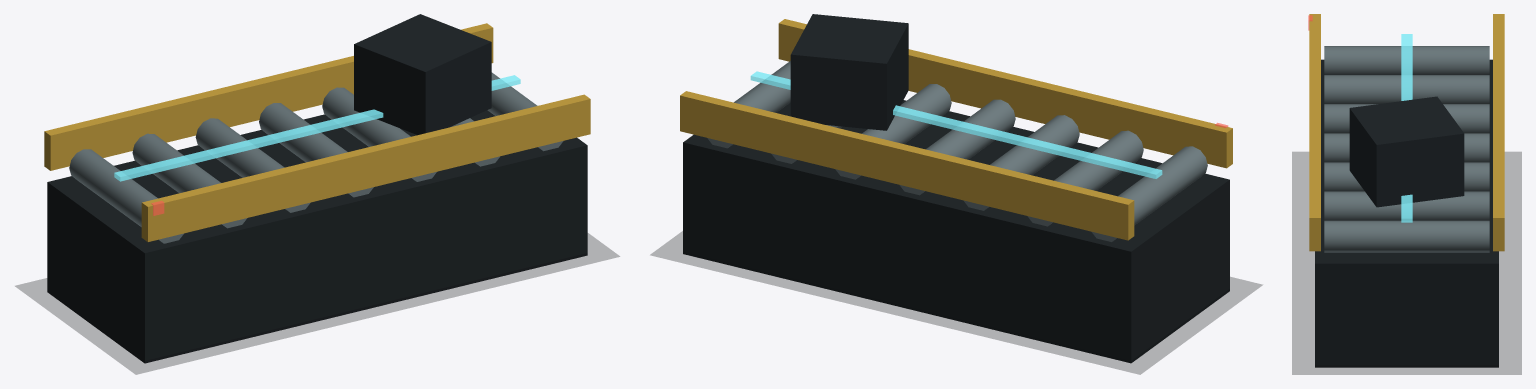
The model's file is hp_room_rm_core_conveyor_segment.glb.
3 renders of one model, left to right at view 1: azimuth 30°, elevation 25°; view 2: azimuth 150°, elevation 25°; view 3: azimuth 270°, elevation 25°, orthographic. The views are drawn at different scales.
Parts seen in each view (by area): view 1: conveyor_frame, side_rail_front, carried_crate, side_rail_back, contact_shadow, direction_glow, roller_0, roller_2, roller_3, roller_1, roller_4, roller_6; view 2: conveyor_frame, side_rail_back, side_rail_front, carried_crate, contact_shadow, direction_glow, roller_0, roller_3, roller_2, roller_1, roller_4, roller_6; view 3: conveyor_frame, contact_shadow, carried_crate, roller_6, roller_0, roller_1, roller_5, side_rail_front, side_rail_back, roller_2, roller_4, roller_3 (+1 smaller).
Boxes of the visible parts, x1,y1,x2,y2 form: conveyor_frame: (47,110,587,363); side_rail_front: (141,94,590,241); carried_crate: (354,14,491,135); side_rail_back: (44,23,493,170); contact_shadow: (15,233,619,374); direction_glow: (114,75,520,181); roller_0: (69,149,183,243); roller_2: (195,118,310,212); roller_3: (259,103,373,197); roller_1: (132,133,247,228); roller_4: (322,87,436,181); roller_6: (487,72,563,151); conveyor_frame: (683,100,1229,363); side_rail_back: (680,91,1134,240); side_rail_front: (778,19,1232,168); carried_crate: (790,14,908,130); contact_shadow: (650,231,1262,374); direction_glow: (750,71,1162,178); roller_0: (1091,146,1207,241); roller_3: (899,99,1015,195); roller_2: (963,115,1079,210); roller_1: (1027,130,1143,226); roller_4: (835,84,951,179); roller_6: (707,61,790,148); conveyor_frame: (1315,59,1498,367); contact_shadow: (1292,152,1521,374); carried_crate: (1349,96,1464,207); roller_6: (1324,220,1489,252); roller_0: (1324,46,1489,74); roller_1: (1324,75,1489,103); roller_5: (1324,191,1489,220); side_rail_front: (1309,14,1320,251); side_rail_back: (1493,14,1504,251); roller_2: (1324,104,1489,133); roller_4: (1324,162,1489,191); roller_3: (1324,133,1489,162).
Size of the model in its own units: 2.3 by 0.93 by 1.
